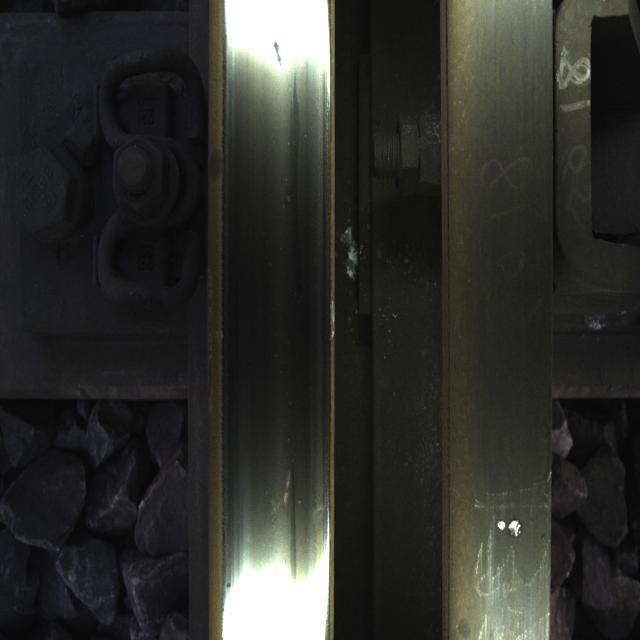crack: (246, 17, 299, 88)
scar: (465, 366, 547, 640)
